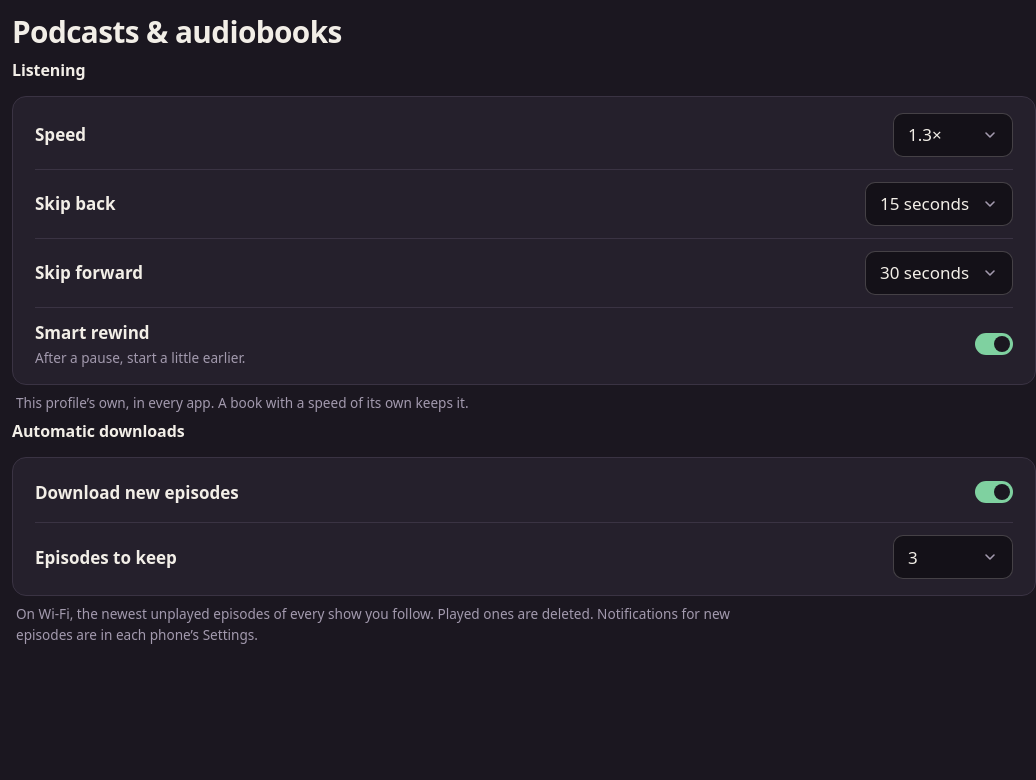
Test case: Podcasts & audiobooks settings › keeps a saved change when a later one fails
Select "45 seconds" in the dropdown labelled "Skip back": (939, 204) x1=865 y1=182 x2=1013 y2=226
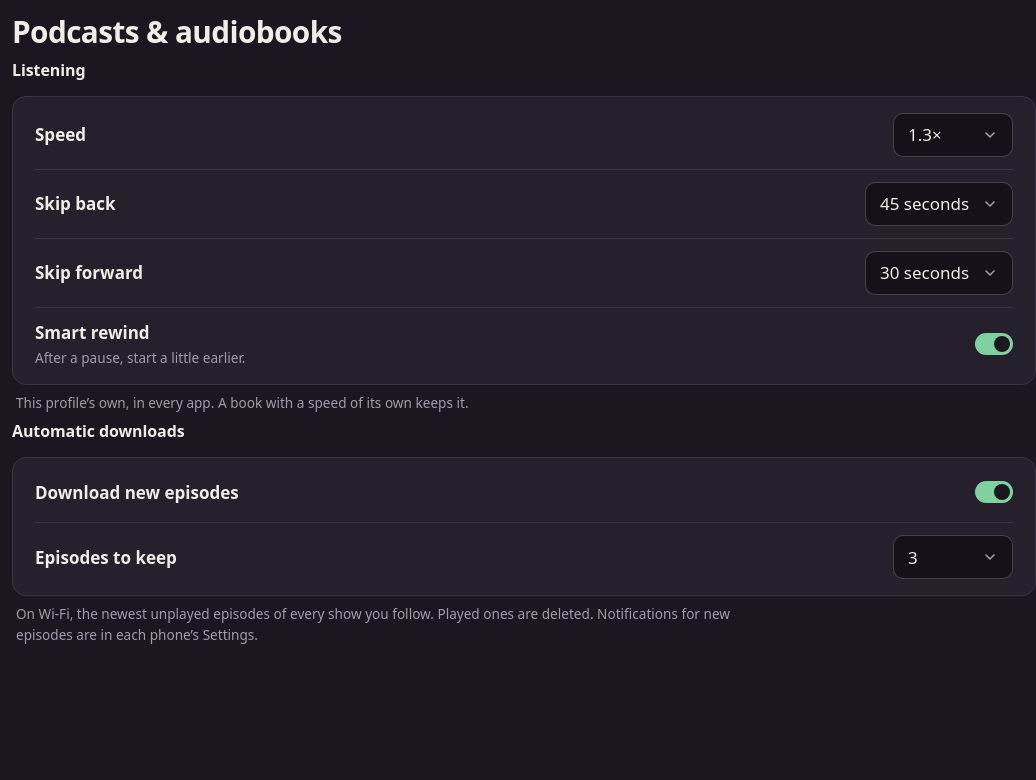
Click the switch labelled "Smart rewind After a pause, start a little earlier.": click(994, 344) x1=975 y1=333 x2=1013 y2=355
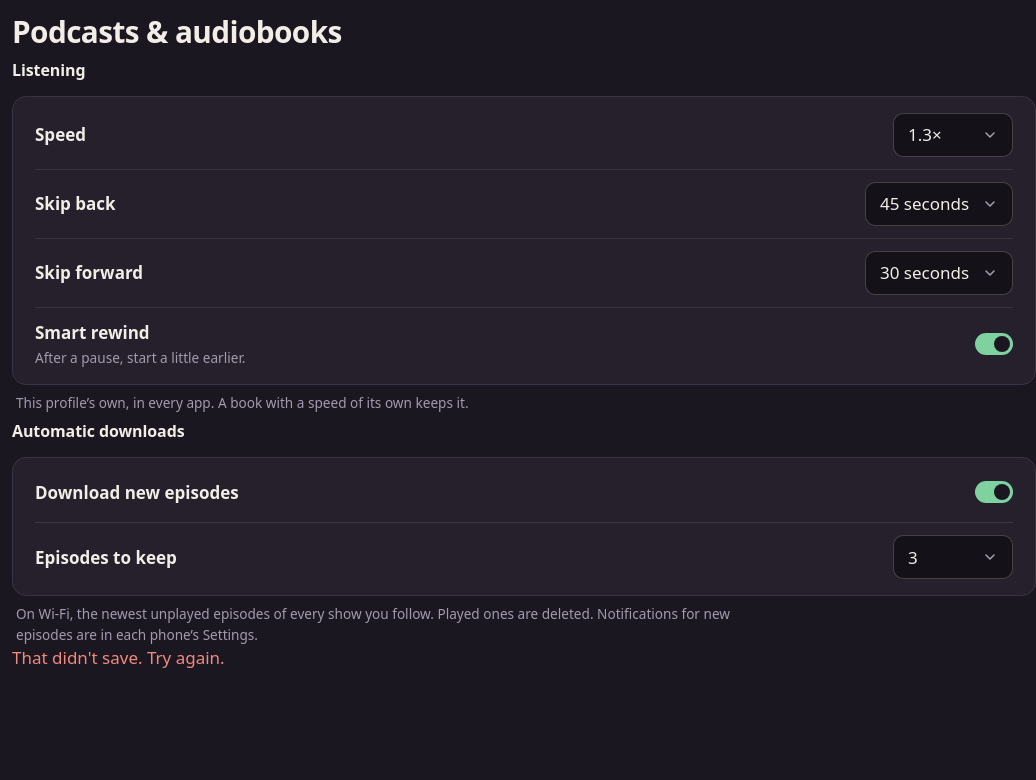
Result: the text "That didn't save. Try again." is shown at x1=12 y1=646 x2=225 y2=669
